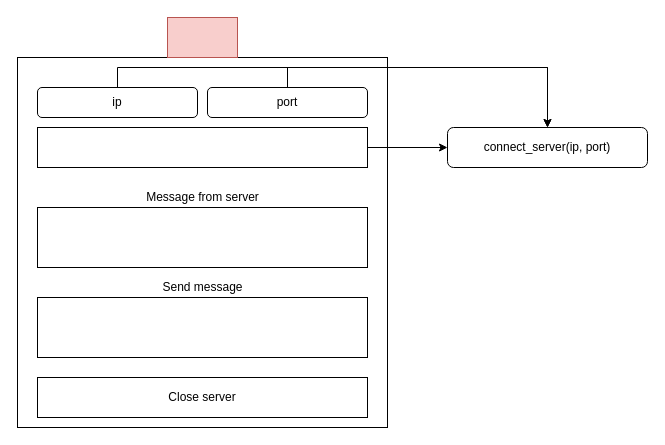
The diagram is 665 pixels wide and 445 high, and some of its shapes have lost their labels. The box of each missing label's shape, as (x1, y1, x2, y2) in pixels:
Client: (166, 16, 238, 58)
Connect to server: (36, 126, 368, 168)
